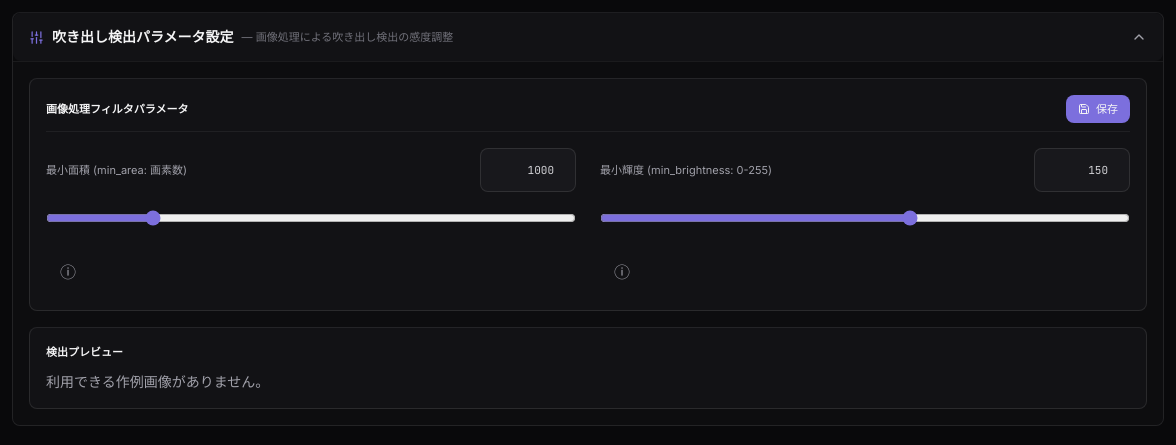
Settings autosave integration › [REQ-381/AC-7] sends a real bubble update after a mobile number field is confirmed
The image size is (1176, 445).
Step 1. Replace the text in the number field named "最小面積 (min_area: 画素数)" with "1500" → [528, 170], box [480, 148, 576, 192]
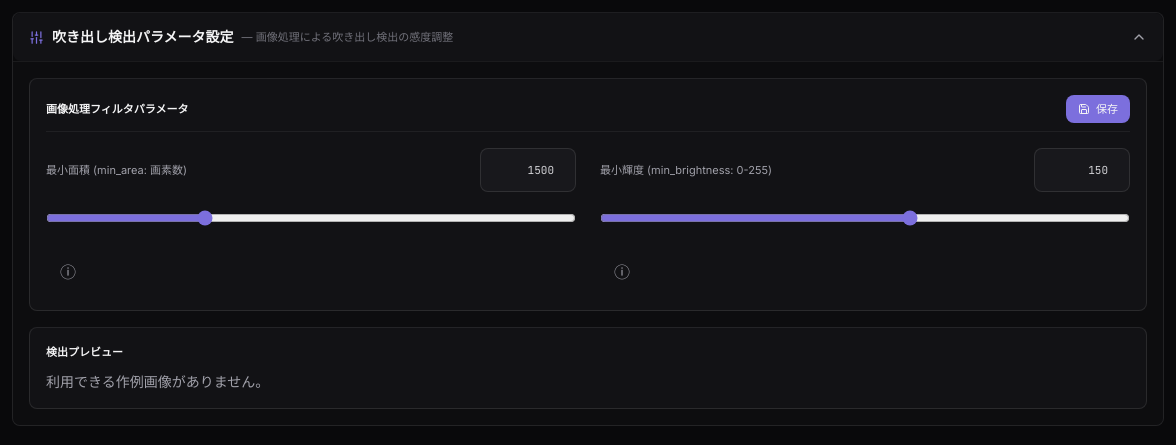
Expected: the text "設定を保存しました" is not shown
Step 2. Leave the number field named "最小面積 (min_area: 画素数)", box [480, 148, 576, 192]
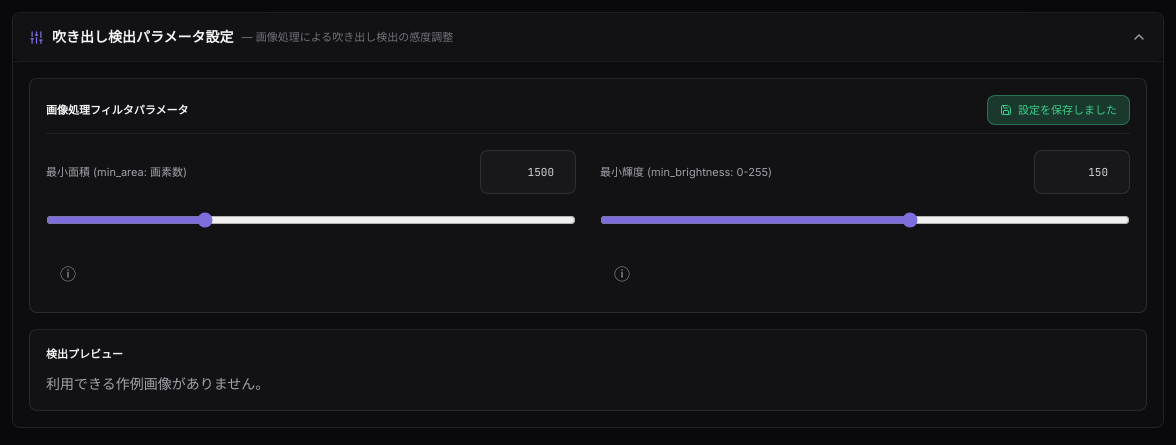
Expected: the button "設定を保存しました" is shown, [987, 95, 1130, 125]
